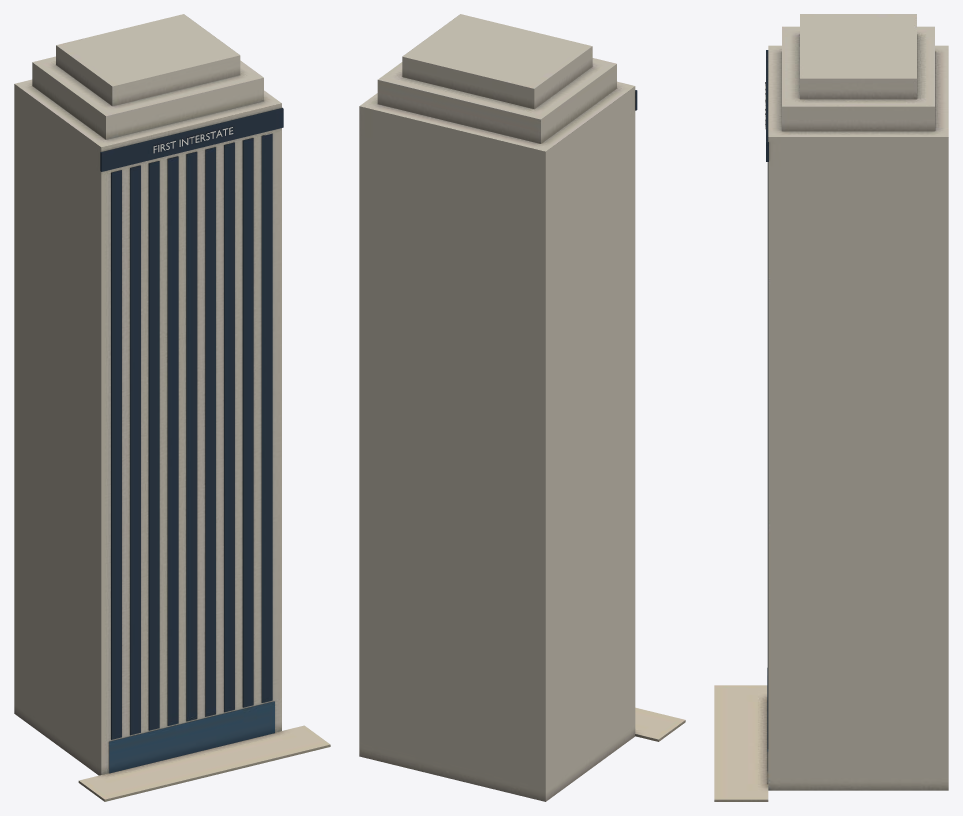
The model's file is first_interstate.glb.
3 views of the same model, side by side, from view 1: azimuth 30°, elevation 25°; view 2: azimuth 150°, elevation 25°; view 3: azimuth 270°, elevation 25° (orthographic). The views are drawn at different scales.
Visible parts, largest first — view 1: first_interstate; view 2: first_interstate; view 3: first_interstate.
Part boxes in pixels (box(x1,y1,x2,y2)): first_interstate: box(14, 14, 330, 801); first_interstate: box(359, 14, 685, 801); first_interstate: box(714, 14, 948, 801).
Size of the model in its own units: 30 by 85.5 by 26.
Materials: 1 (1 with a texture image).
